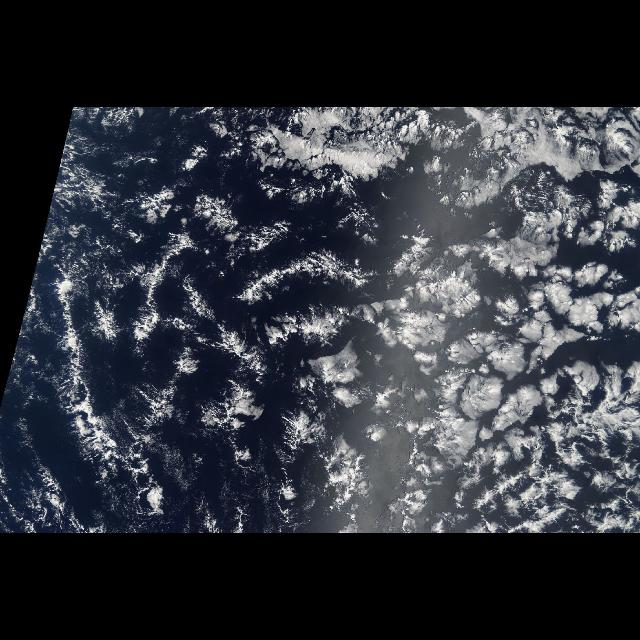Fish: (57, 204, 360, 488)
Flower: (296, 203, 638, 523)
